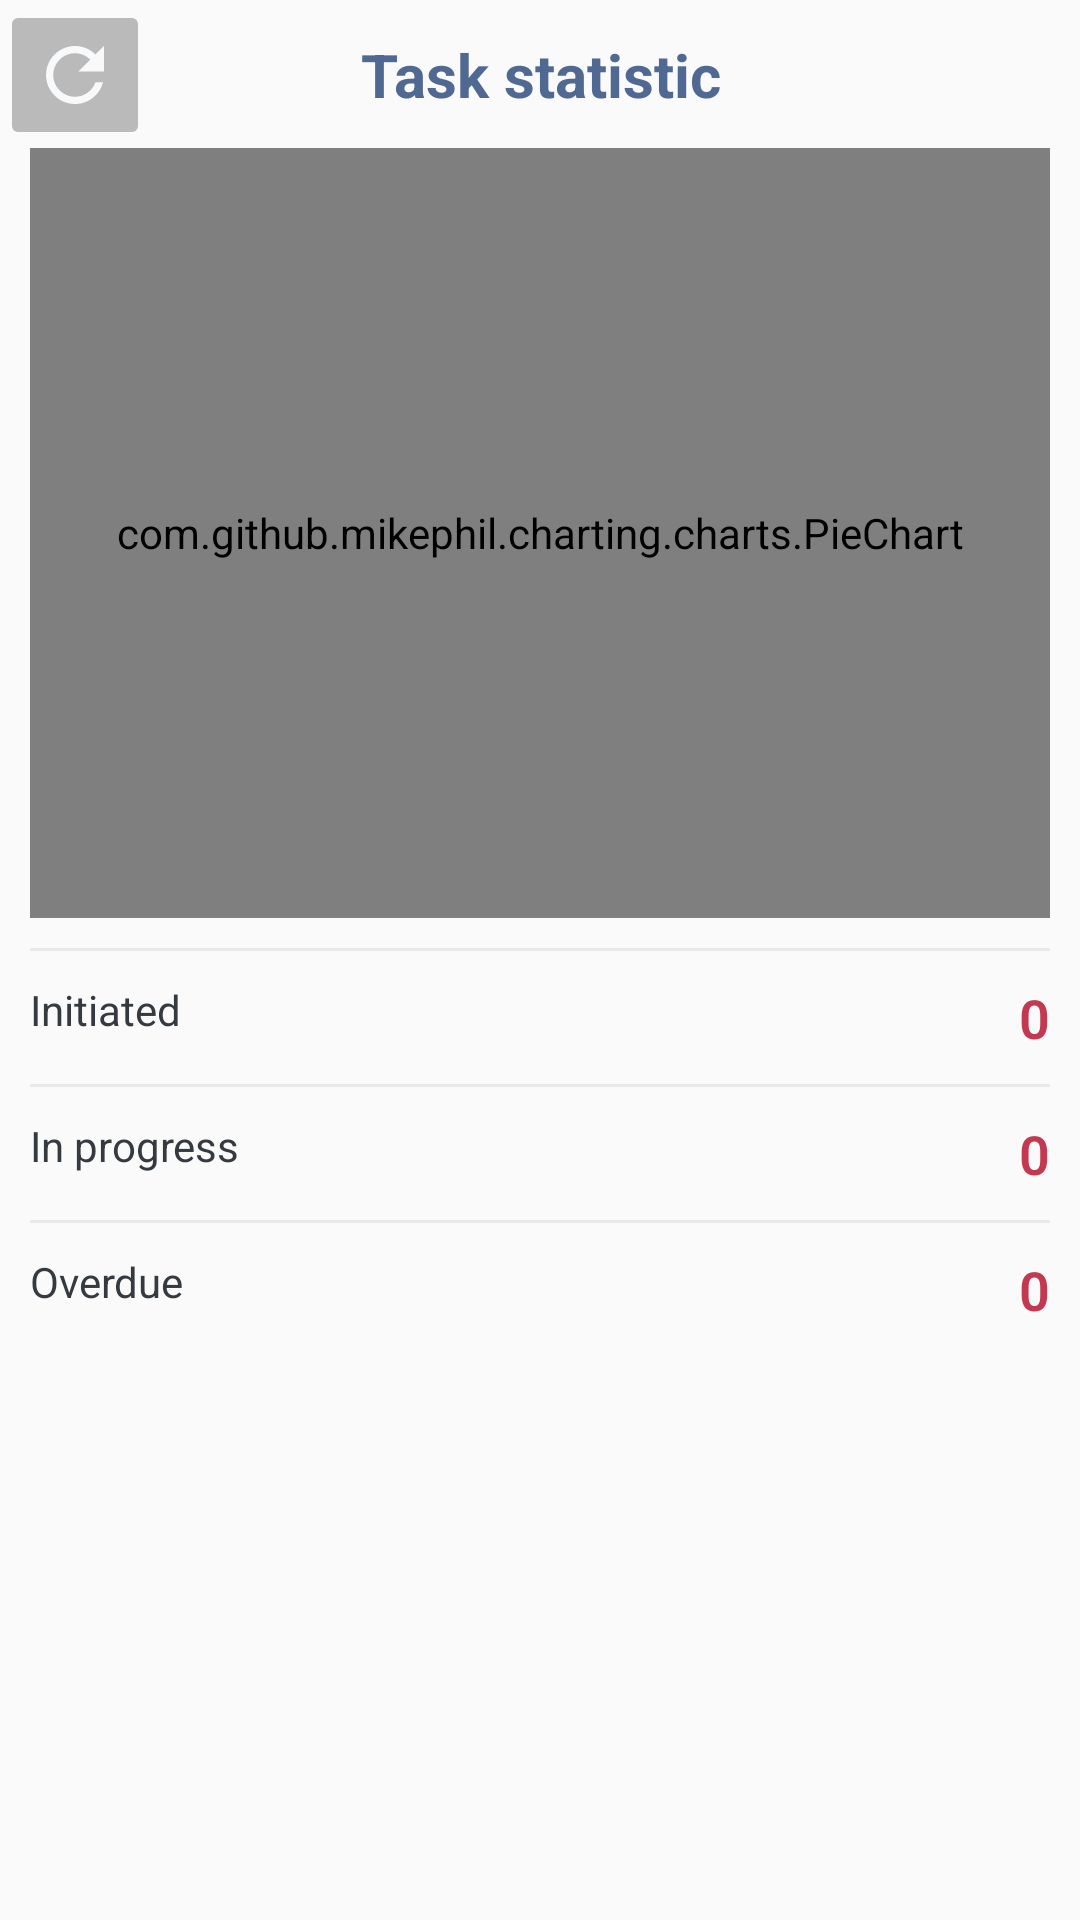

Where to tap for icons on this 1080px x 1920px app screen, as point (x, y):
refresh: point (75, 75)
